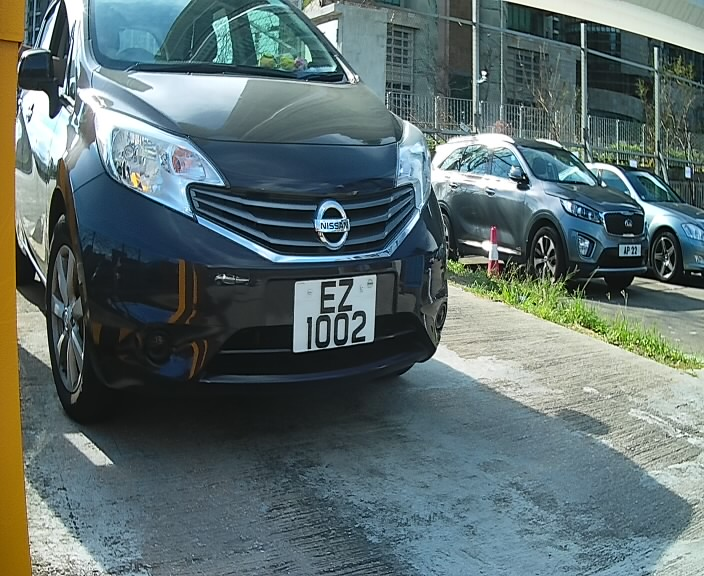Car: (12, 2, 489, 454)
License Plate: (280, 270, 385, 366)
